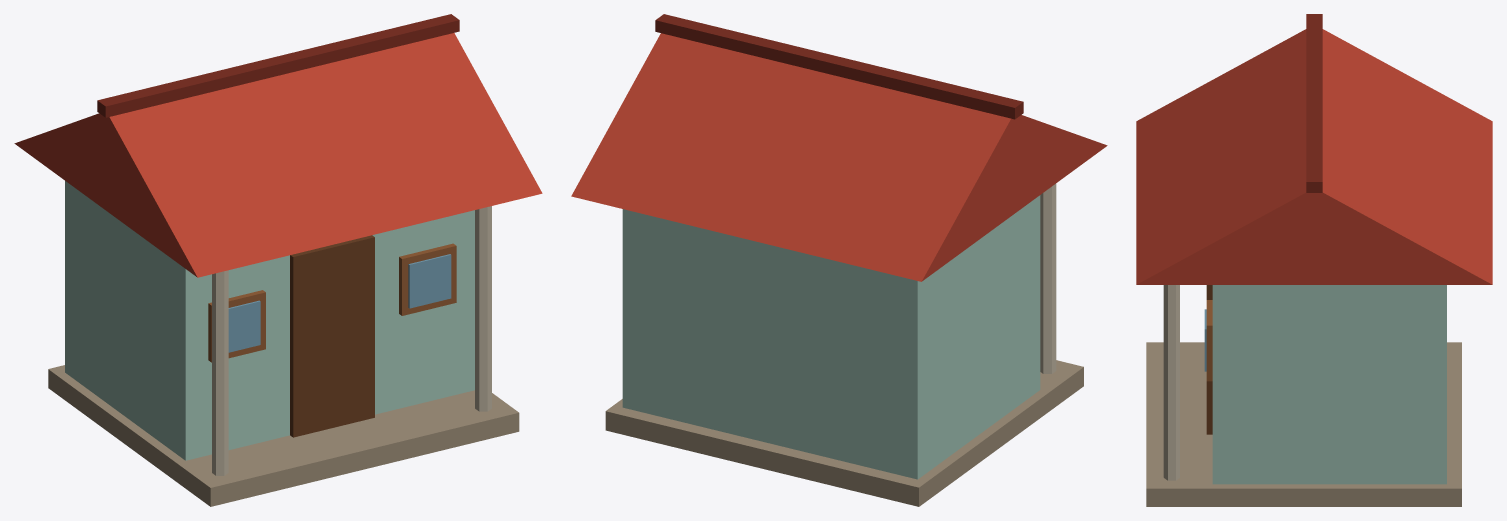
File: nha-cap4-xanh.glb
3 renders of one model, left to right at view 1: azimuth 30°, elevation 25°; view 2: azimuth 150°, elevation 25°; view 3: azimuth 270°, elevation 25°, orthographic. The views are drawn at different scales.
Visible parts, largest first — view 1: nha-cap4-xanh; view 2: nha-cap4-xanh; view 3: nha-cap4-xanh.
Part boxes in pixels (x1,y1,x2,y2): nha-cap4-xanh: [14, 14, 542, 506]; nha-cap4-xanh: [571, 14, 1107, 506]; nha-cap4-xanh: [1136, 14, 1492, 506].
Size of the model in its own units: 3.9 by 3.64 by 3.5.
